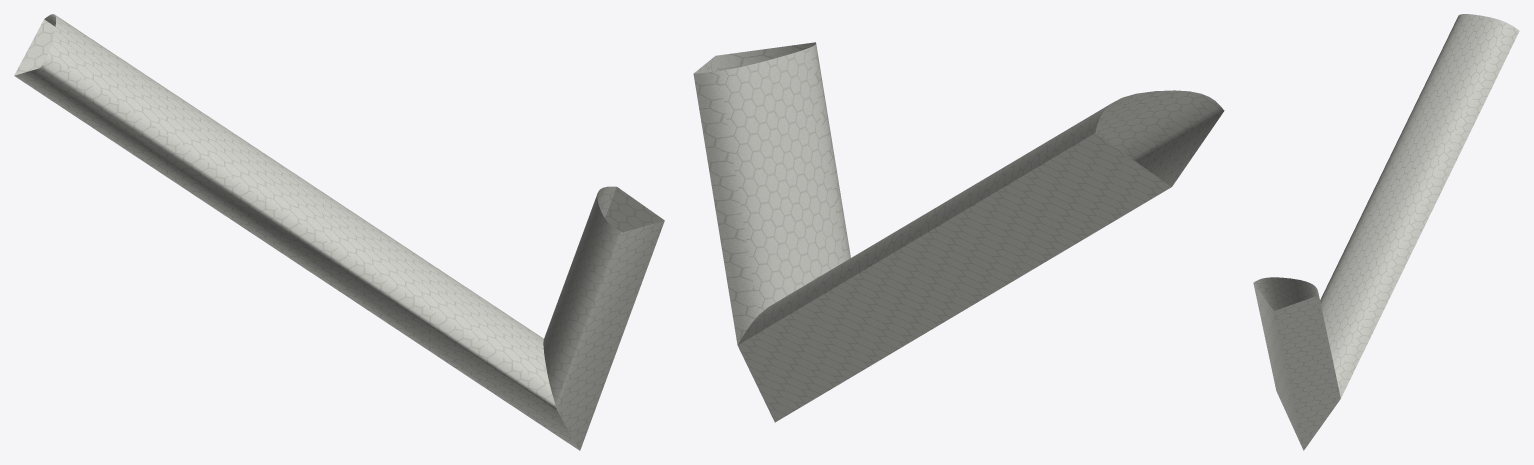
Rendered from 03leg1-2.obj.
3 views of the same model, side by side, from view 1: azimuth 30°, elevation 25°; view 2: azimuth 150°, elevation 25°; view 3: azimuth 270°, elevation 25° (orthographic). The views are drawn at different scales.
Visible parts, largest first — view 1: Line010; view 2: Line010; view 3: Line010.
Part boxes in pixels (left/top/right/bottom): Line010: left=14, top=14, right=664, bottom=450; Line010: left=693, top=42, right=1224, bottom=422; Line010: left=1253, top=14, right=1519, bottom=450.
Bounding box in the file's own units: 1.9 × 1.57 × 1.26.
